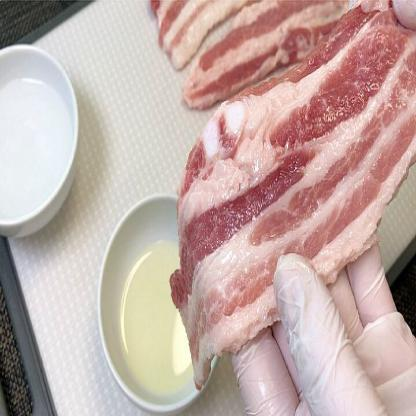pork: (146, 0, 416, 246)
